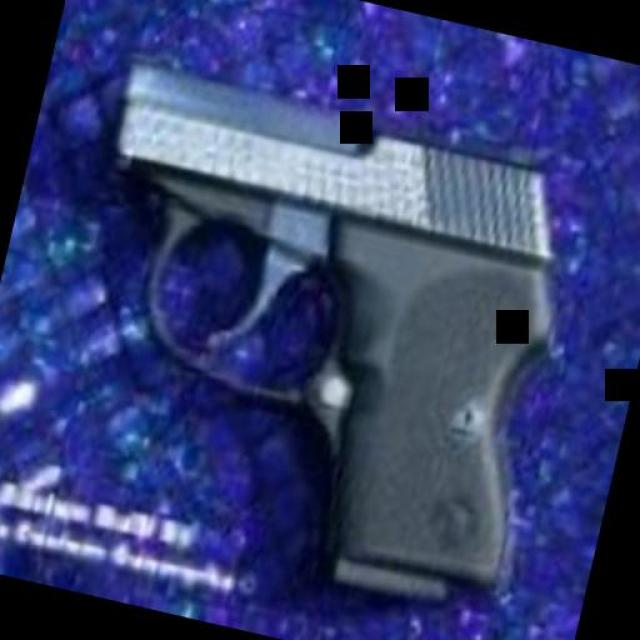gun: (18, 42, 608, 618)
